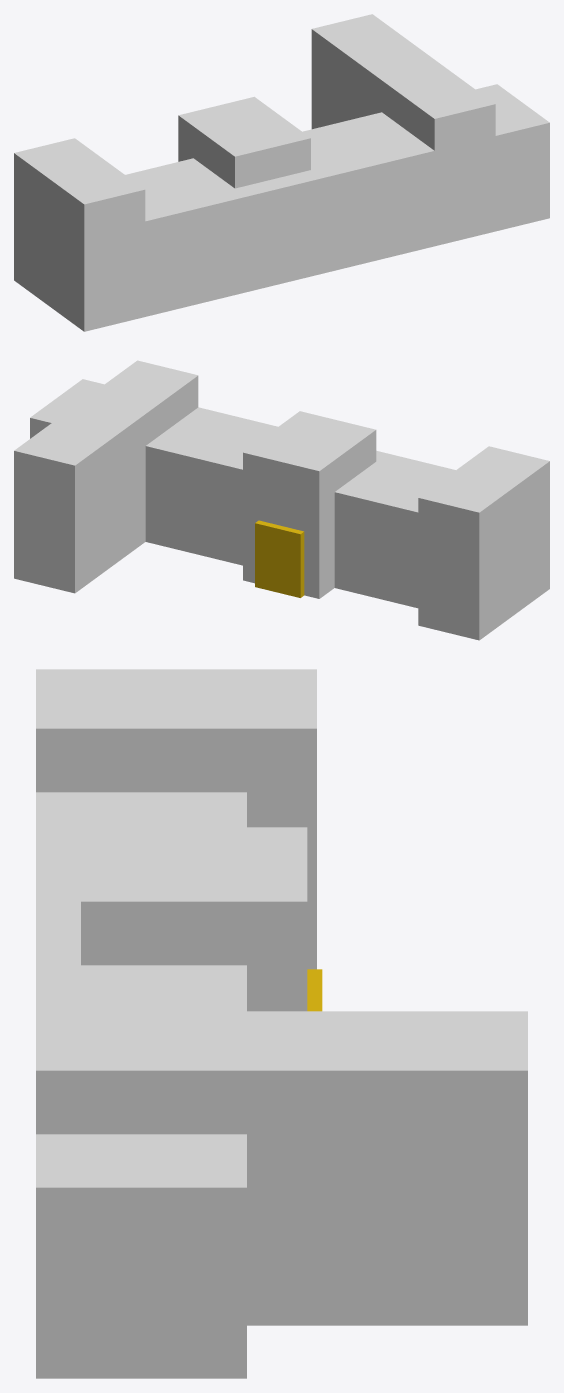
3 views of the same model, one above another, from view 1: azimuth 30°, elevation 25°; view 2: azimuth 150°, elevation 25°; view 3: azimuth 270°, elevation 25° (orthographic). The views are drawn at different scales.
Visible parts, largest first — view 1: Cube, Cube.003, Cube.002, Cube.001; view 2: Cube, Cube.003, Cube.002, Cube.001, Cube.004; view 3: Cube.003, Cube, Cube.002, Cube.001.
Part boxes in pixels (x1,y1,x2,y2): Cube: (93, 84, 549, 329); Cube.003: (311, 14, 495, 242); Cube.002: (14, 138, 145, 331); Cube.001: (178, 96, 310, 188); Cube: (30, 379, 455, 608); Cube.003: (14, 360, 198, 593); Cube.002: (418, 446, 549, 640); Cube.001: (243, 411, 376, 598); Cube.004: (255, 520, 304, 597); Cube.003: (36, 1011, 527, 1325); Cube: (36, 792, 246, 1378); Cube.002: (36, 669, 316, 969); Cube.001: (81, 827, 307, 1011).
Size of the model in its own units: 30.6 by 8 by 14.
